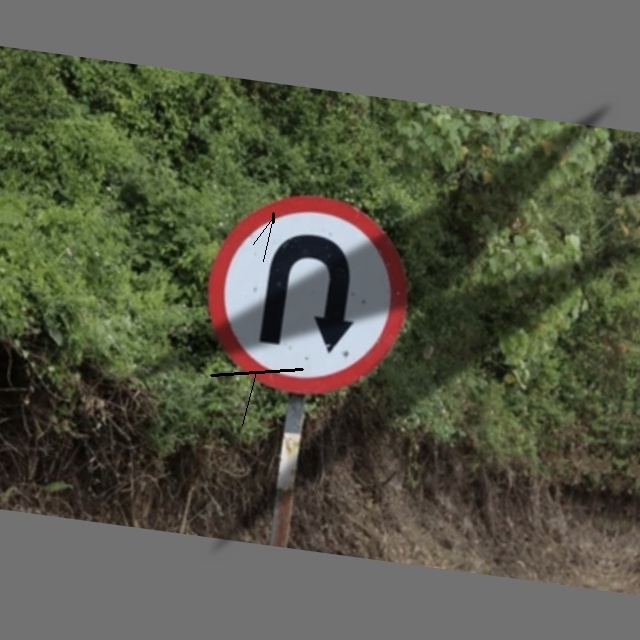U_Turn_Ahead: (197, 188, 425, 400)
